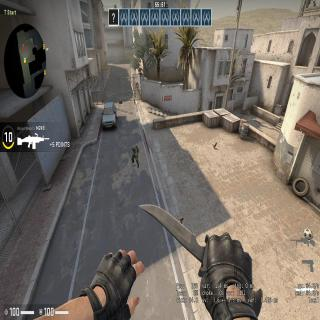CT-Body: (130, 144, 141, 166)
CT-Head: (132, 146, 135, 150)
